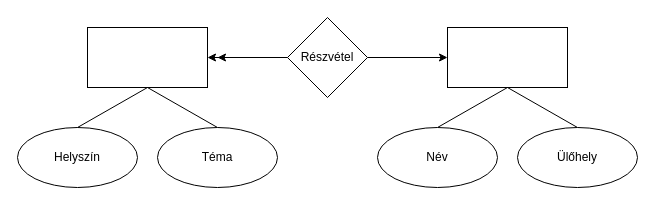
The diagram is 655 pixels wide and 205 high, and some of its shapes have lost their labels. Here are the shapes that lost their labels. From the top down, the centre of each, then its label:
At [147,57]: "Tanfolyam".
At [507,57]: "Résztvevő".
